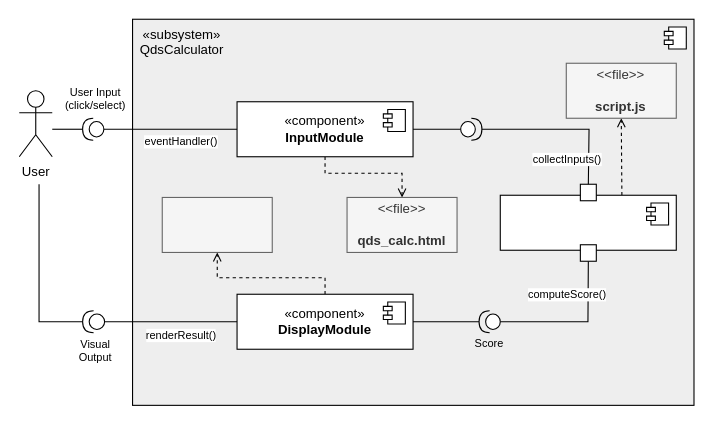
Image size: 714x425. Some labels were removed from this diagram. The shapes that lost their labels are listed below. From the top down, each one's centre as x and y in pixels, then its label:
At (x=471, y=128): "Attributes".
At (x=216, y=224): "<<file>> style.css".
At (x=587, y=222): "«component» ComputationEngine".
